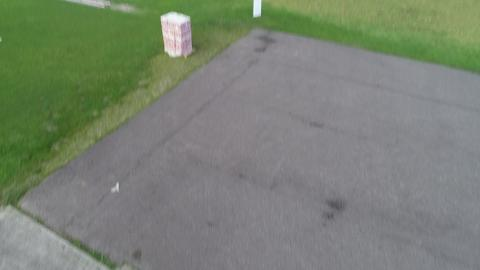RockwoolPallet: (160, 11, 194, 57)
